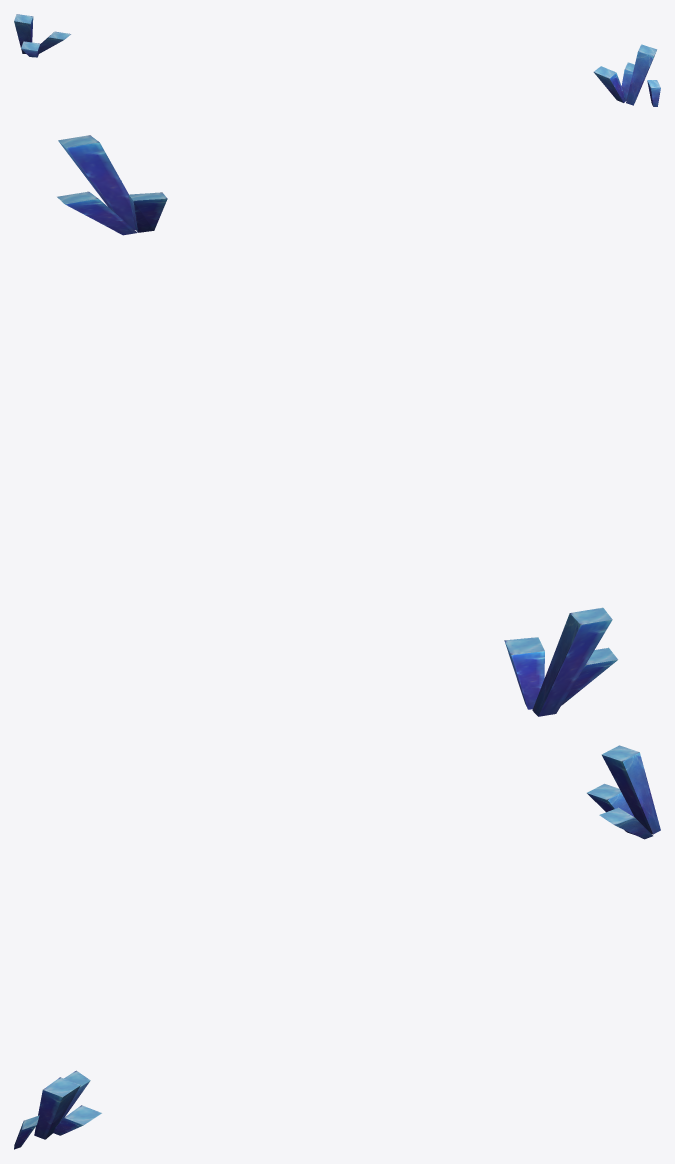
Rendered from Area08_24_y.FBX.
The picture shows the model from 3 angles, top to bottom: view 1: azimuth 30°, elevation 25°; view 2: azimuth 150°, elevation 25°; view 3: azimuth 270°, elevation 25°; orthographic projection. The views are drawn at different scales.
Parts seen in each view (by area): view 1: Area08_24_y; view 2: Area08_24_y; view 3: Area08_24_y.
Boxes of the visible parts, box(x1,y1,x2,y2) form: Area08_24_y: box(14, 14, 660, 106); Area08_24_y: box(57, 135, 617, 716); Area08_24_y: box(14, 745, 660, 1149).
Bounding box in the file's own units: 907 × 91.43 × 725.
